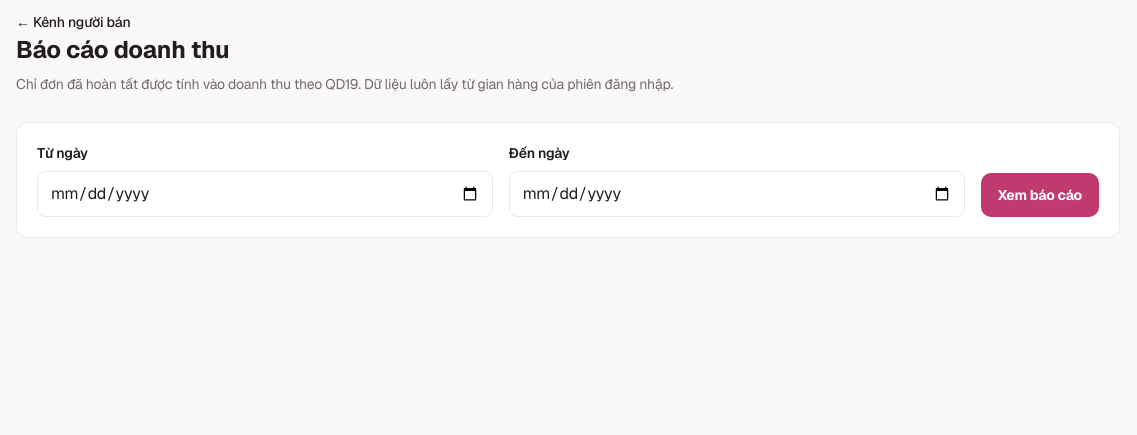
SellerReportsScreen UI › submits date filter and displays revenue report
The image size is (1137, 435).
Type "2026-10-01" into the date field labelled "Từ ngày" at (265, 194), box [37,171,493,217]
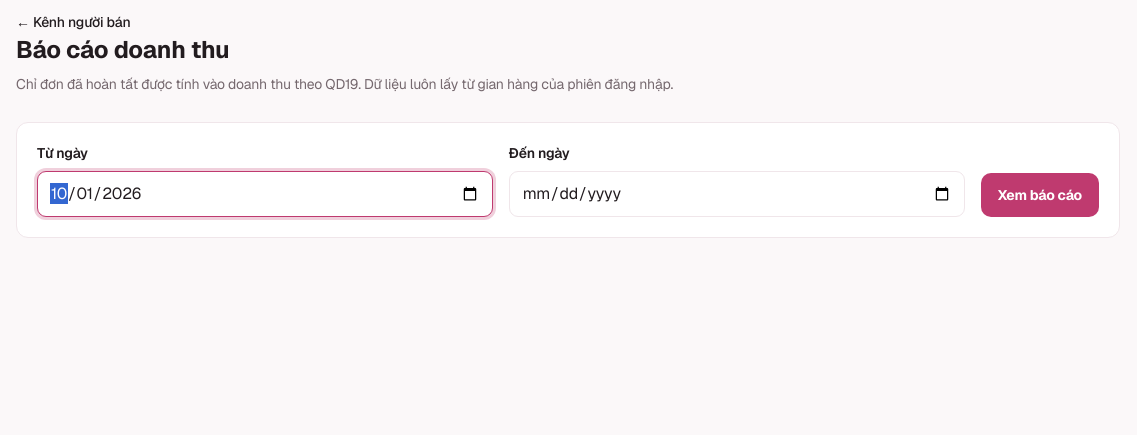
Type "2026-10-05" into the date field labelled "Đến ngày" at (737, 194), box [509,171,965,217]
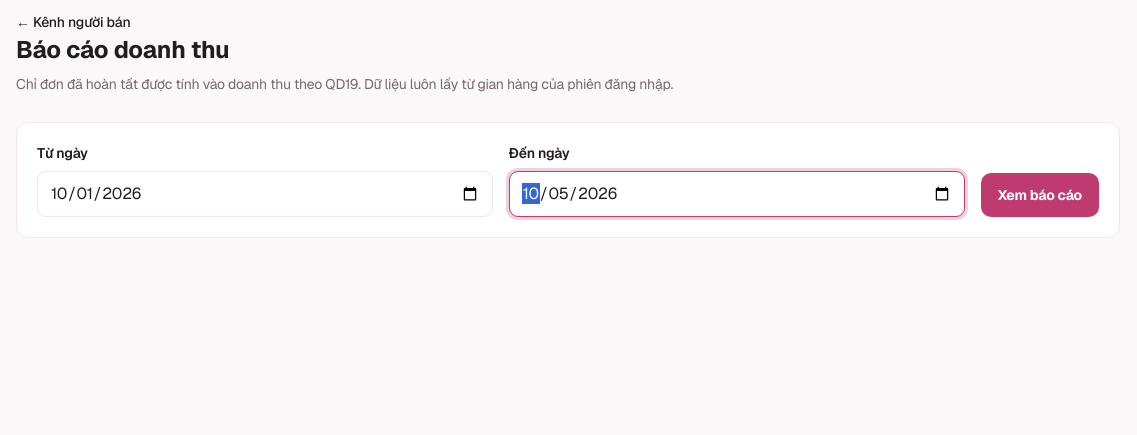
Click the button "Xem báo cáo" at (1040, 195), box [981,173,1099,217]
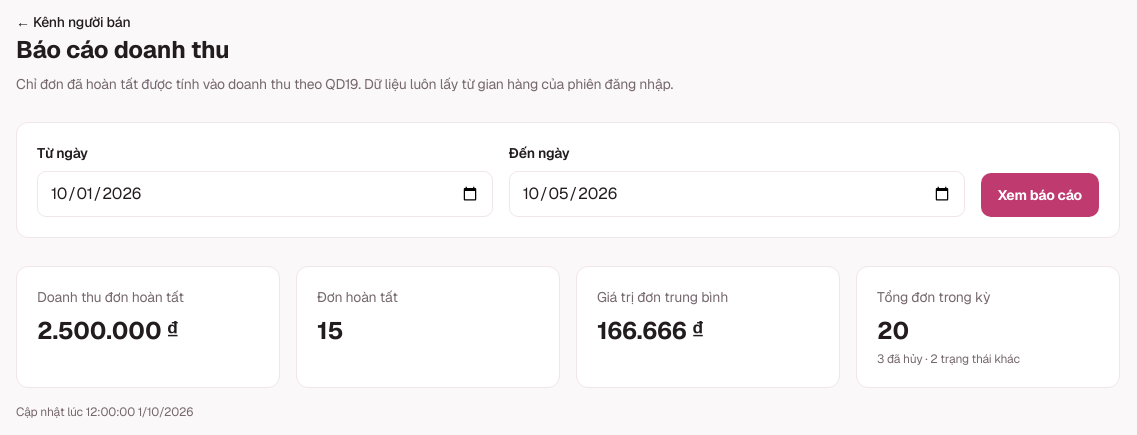
Expected: the text "2.500.000 ₫" is shown, [37,315,179,346]
Expected: the text "15" is shown, [317,315,343,346]
Expected: the text "20" is shown, [877,315,909,346]
